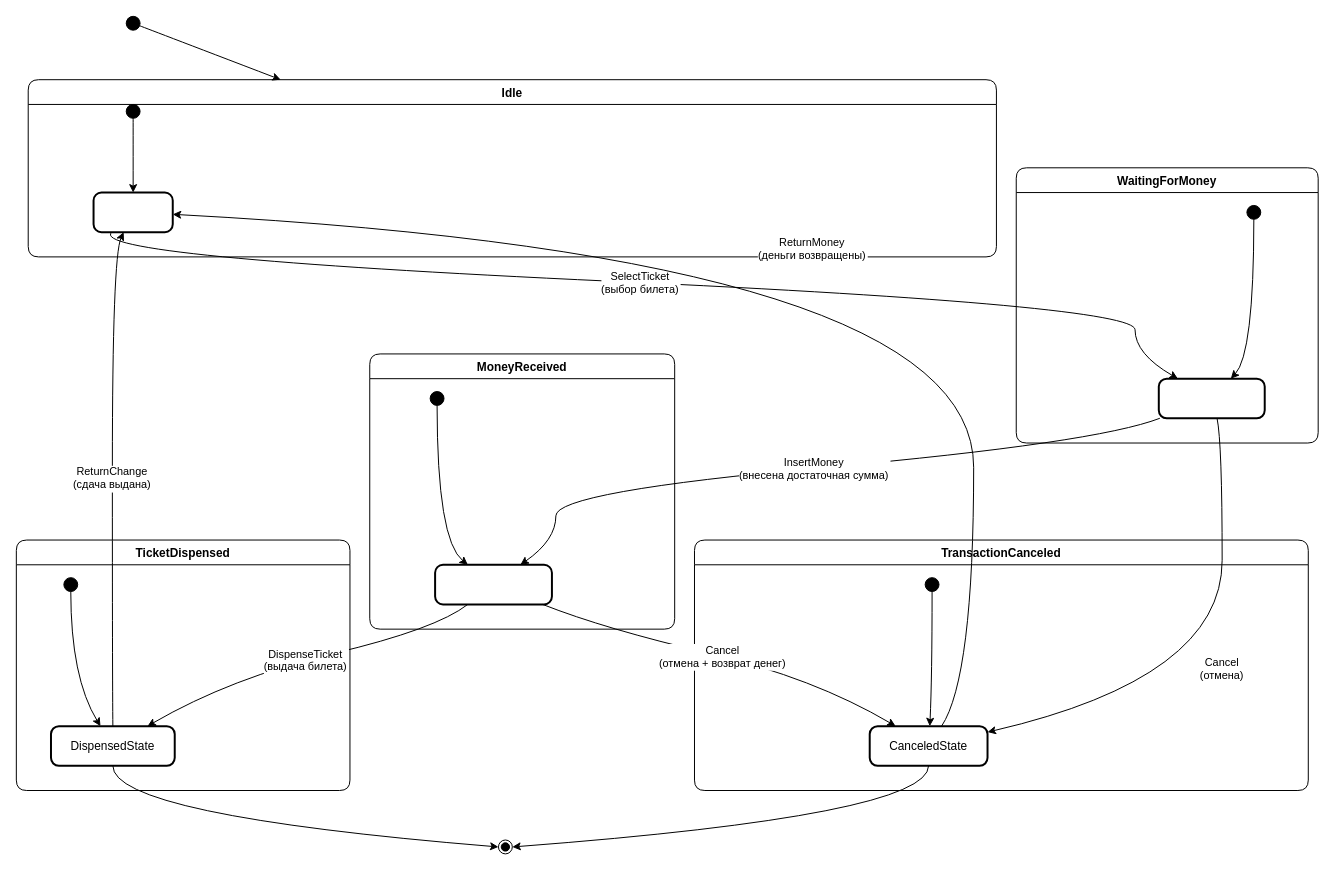
Image size: 1335x870. Some labels were removed from this diagram. The centre of each missing label's shape, as x and y in pixels:
"IdleState" belongs at point 132,212.
"MoneyOkState" belongs at point 493,584.
"WaitingState" belongs at point 1211,398.
